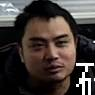mg: (11, 6, 89, 84)
